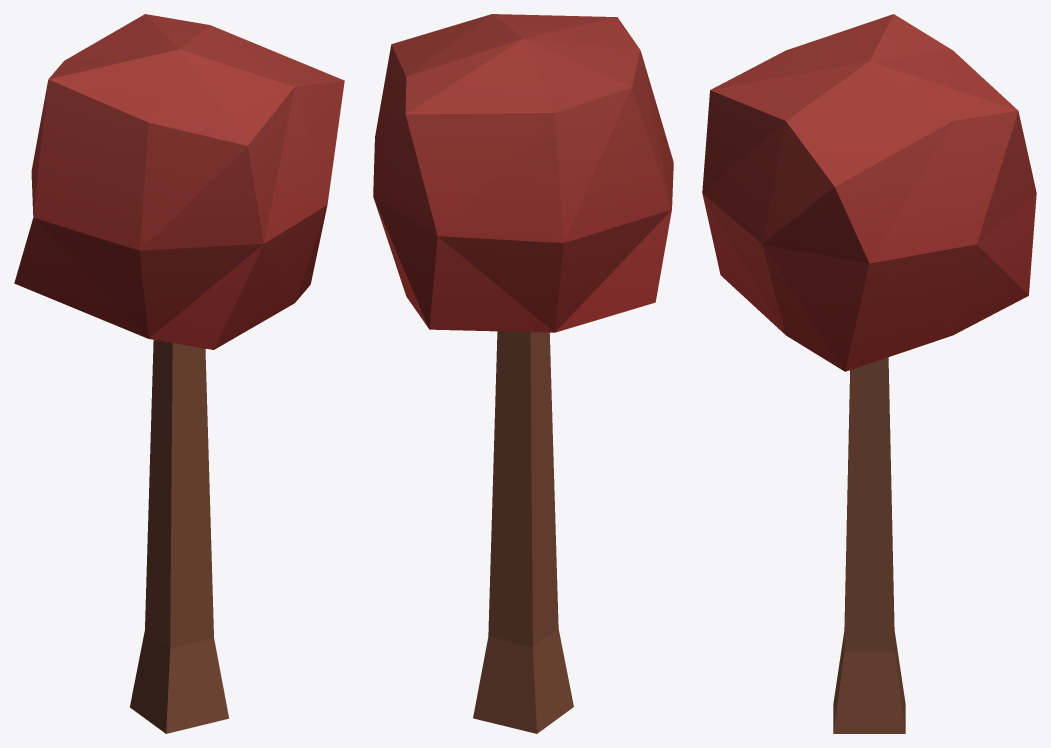
Rendered from Tree_42_gradient_red_vc.fbx.
The picture shows the model from 3 angles, left to right: view 1: azimuth 30°, elevation 25°; view 2: azimuth 150°, elevation 25°; view 3: azimuth 270°, elevation 25°; orthographic projection. The views are drawn at different scales.
Visible parts, largest first — view 1: Tree_42_gradient_red_vc; view 2: Tree_42_gradient_red_vc; view 3: Tree_42_gradient_red_vc.
Boxes of the visible parts, left/top/right/bottom form: Tree_42_gradient_red_vc: left=14, top=14, right=344, bottom=733; Tree_42_gradient_red_vc: left=373, top=14, right=673, bottom=733; Tree_42_gradient_red_vc: left=702, top=14, right=1036, bottom=733.
Bounding box in the file's own units: 98.78 × 212 × 97.79.
